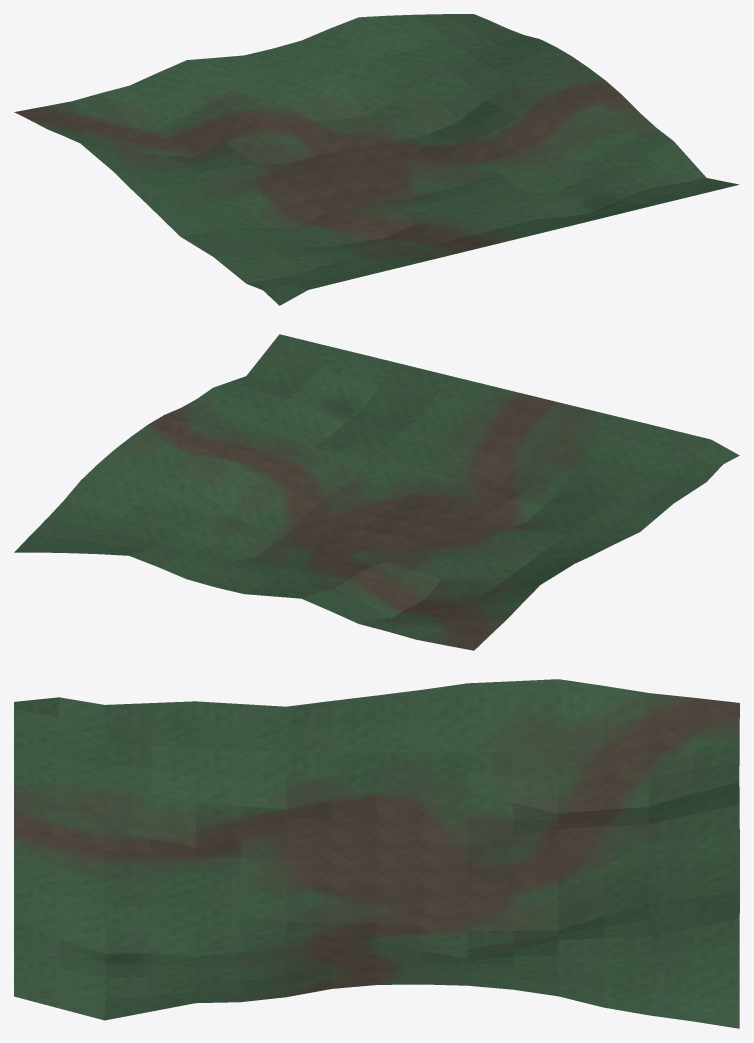
File: Test_terrain.fbx
The picture shows the model from 3 angles, top to bottom: view 1: azimuth 30°, elevation 25°; view 2: azimuth 150°, elevation 25°; view 3: azimuth 270°, elevation 25°; orthographic projection. The views are drawn at different scales.
Parts seen in each view (by area): view 1: Cube; view 2: Cube; view 3: Cube.
Boxes of the visible parts, x1,y1,x2,y2 form: Cube: (14,14,738,305); Cube: (14,334,739,650); Cube: (14,679,739,1028).
Bounding box in the file's own units: 3044 × 279 × 3040.
1 material, 1 textured.
